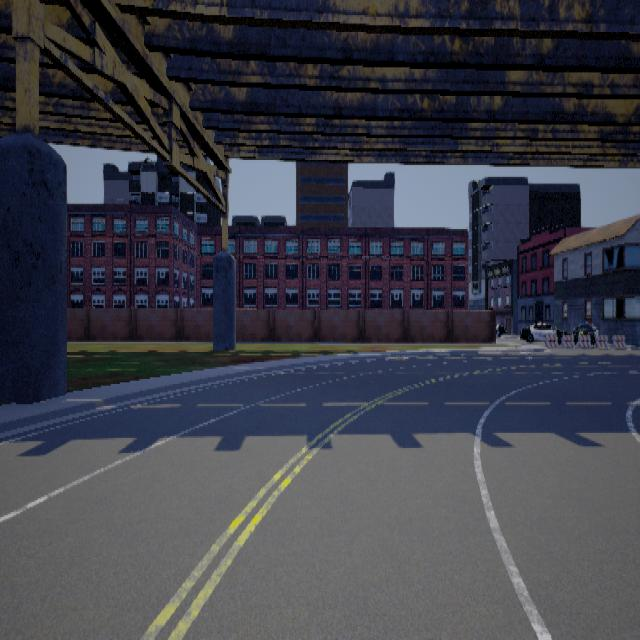vehicle: (519, 320, 569, 344)
